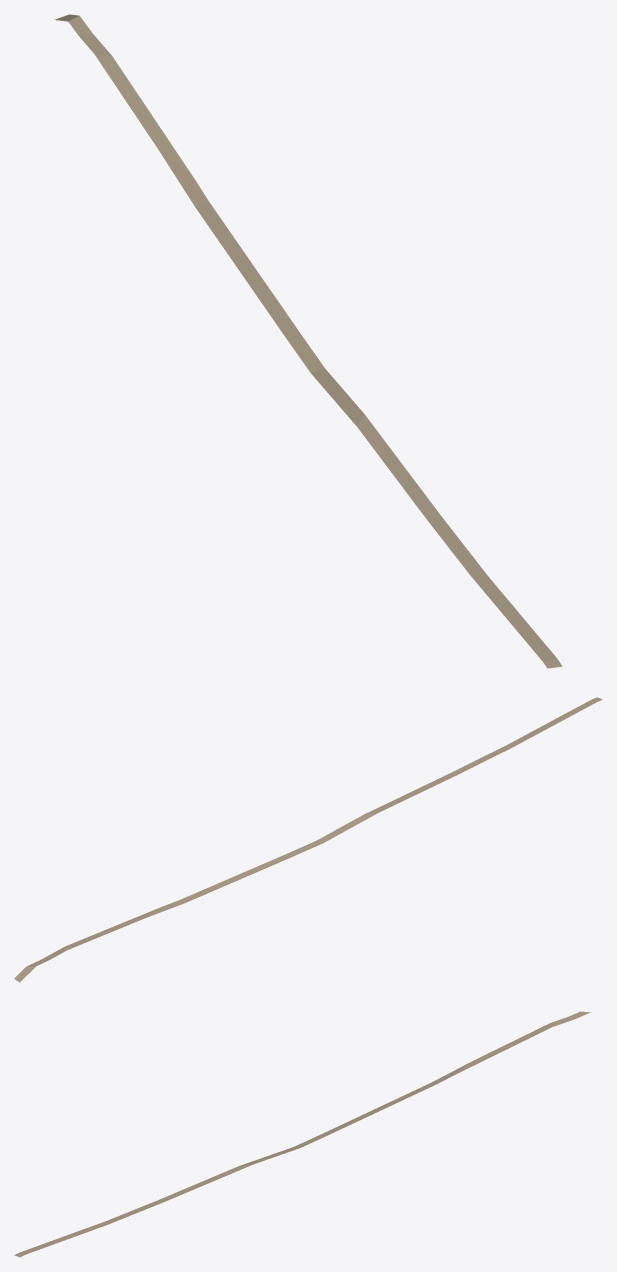
Rendered from farm_0_16_track.glb.
3 views of the same model, one above another, from view 1: azimuth 30°, elevation 25°; view 2: azimuth 150°, elevation 25°; view 3: azimuth 330°, elevation 25° (orthographic). The views are drawn at different scales.
Visible parts, largest first — view 1: geometry_0; view 2: geometry_0; view 3: geometry_0.
Part boxes in pixels (box(x1,y1,x2,y2)): geometry_0: box(54, 14, 562, 668); geometry_0: box(14, 697, 602, 982); geometry_0: box(14, 1011, 590, 1257).
Size of the model in its own units: 82.82 by 9.32 by 341.
